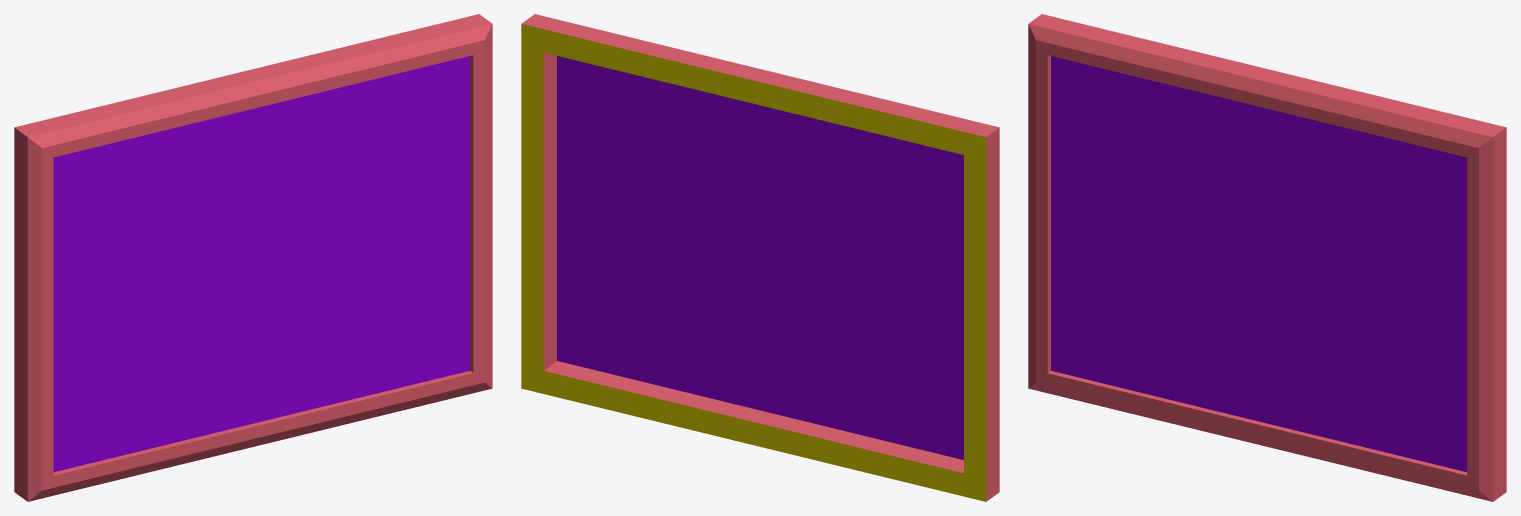
File: decoration-window-big.fbx
3 renders of one model, left to right at view 1: azimuth 30°, elevation 25°; view 2: azimuth 150°, elevation 25°; view 3: azimuth 330°, elevation 25°, orthographic.
Parts seen in each view (by area): view 1: decoration-window-big; view 2: decoration-window-big; view 3: decoration-window-big.
Boxes of the visible parts, x1,y1,x2,y2 form: decoration-window-big: (14, 14, 492, 501); decoration-window-big: (521, 14, 999, 501); decoration-window-big: (1028, 14, 1506, 501).
Bounding box in the file's own units: 4 × 3 × 0.2503.
